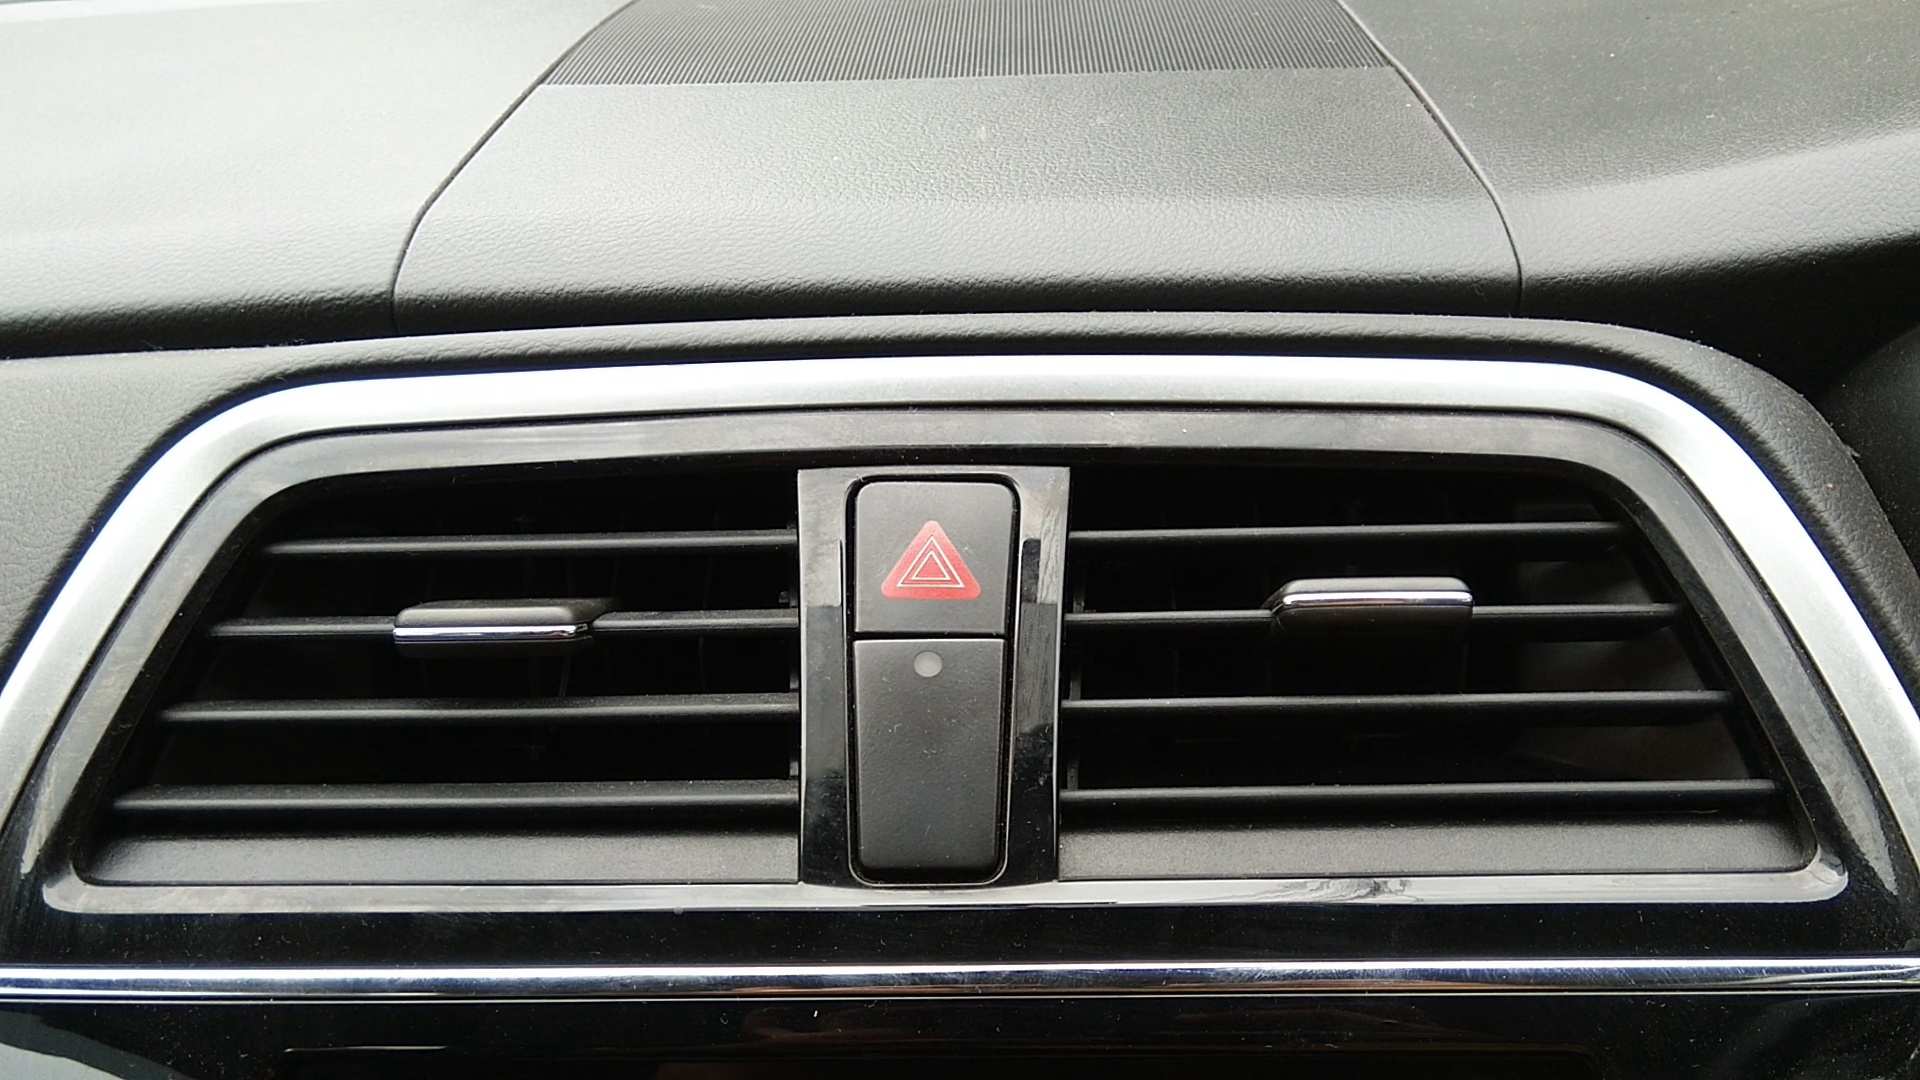parking_button: (831, 450, 1029, 657)
